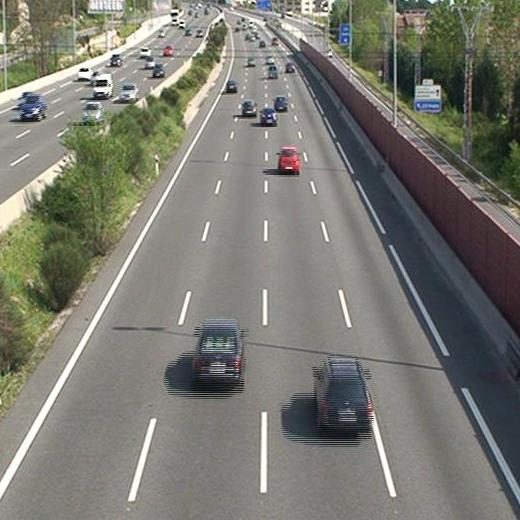car: (313, 356, 373, 432), (194, 320, 247, 385), (274, 145, 302, 171), (260, 108, 279, 127), (243, 100, 258, 116), (274, 95, 288, 111), (224, 81, 239, 92), (284, 63, 294, 71)
van: (267, 63, 279, 79)
